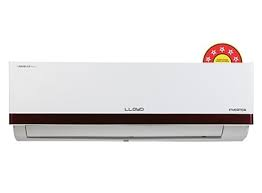ac: (6, 57, 260, 149)
